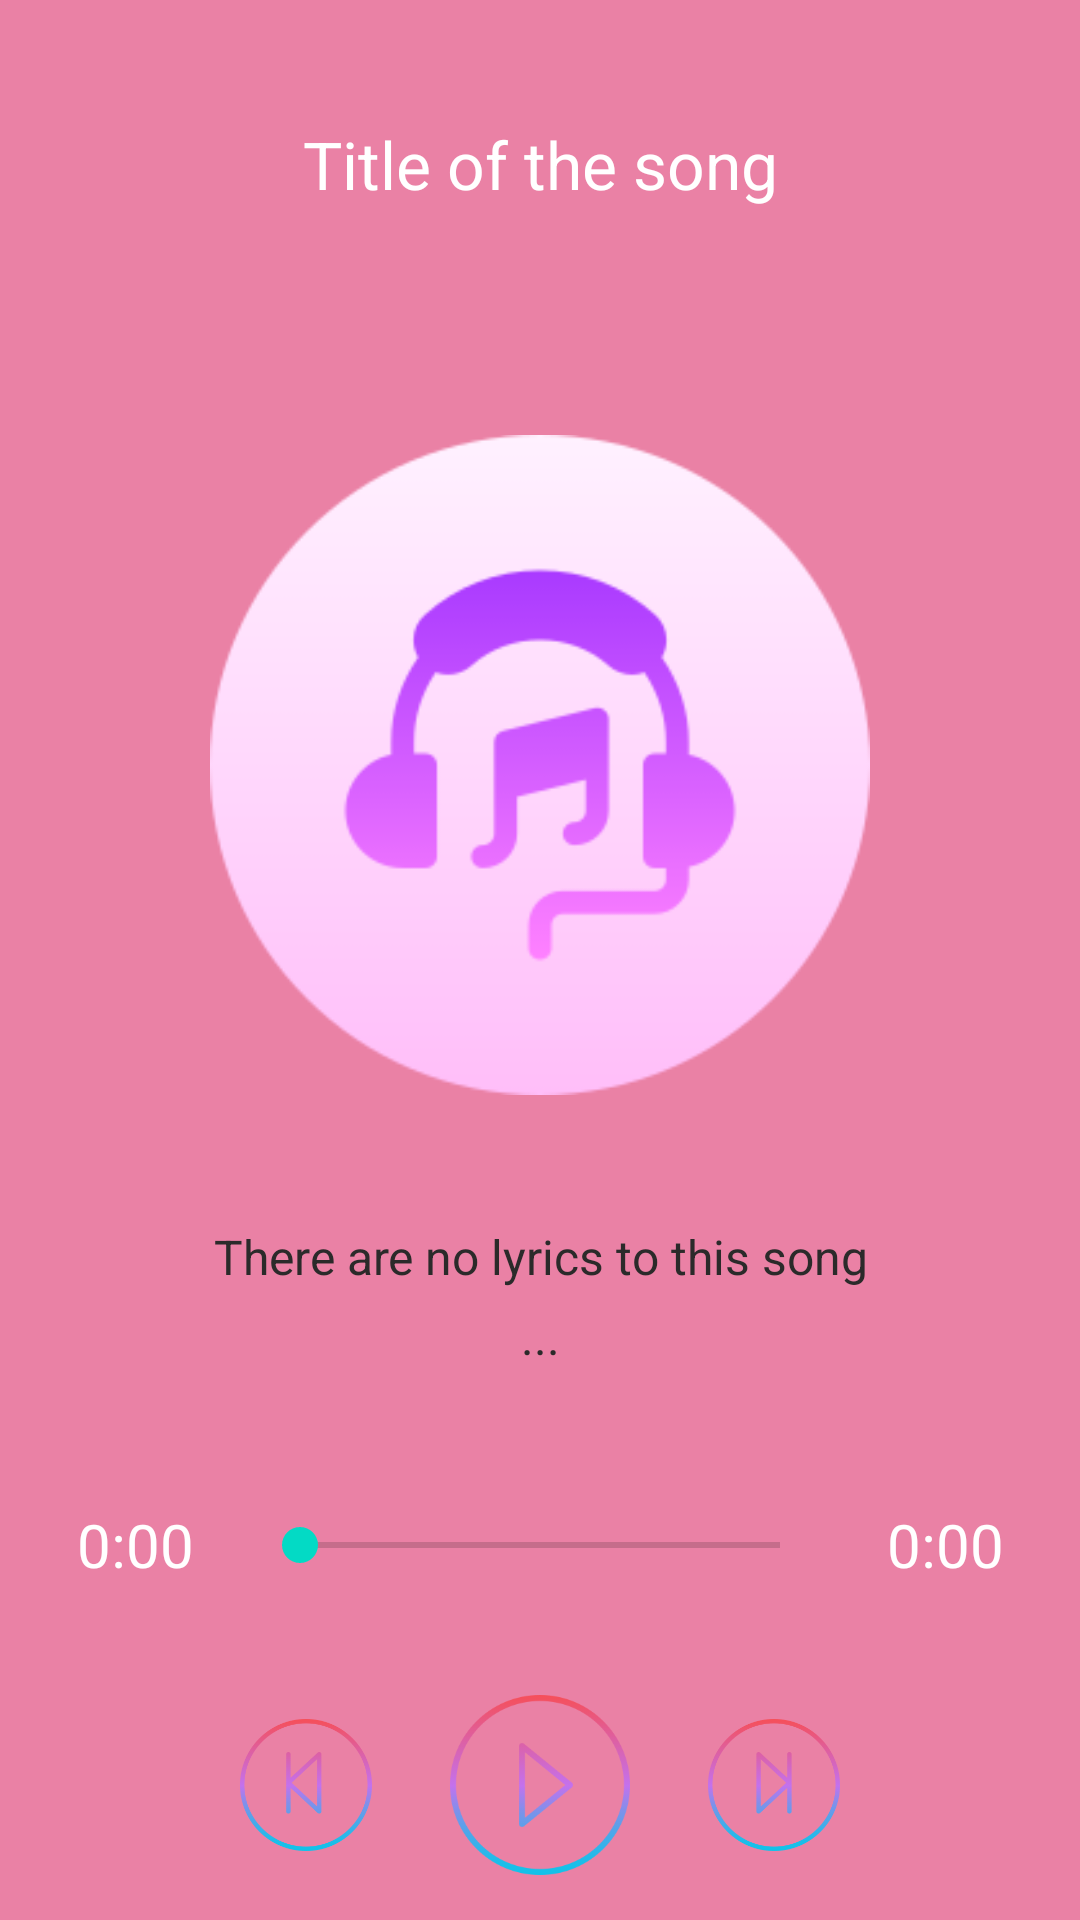

Screen size 1080 x 1920. Icon name, then its box in pixels as bbox=(x1, y1, x2, y2):
next: bbox=(708, 1719, 840, 1851)
play: bbox=(450, 1695, 630, 1875)
revious: bbox=(240, 1719, 372, 1851)
